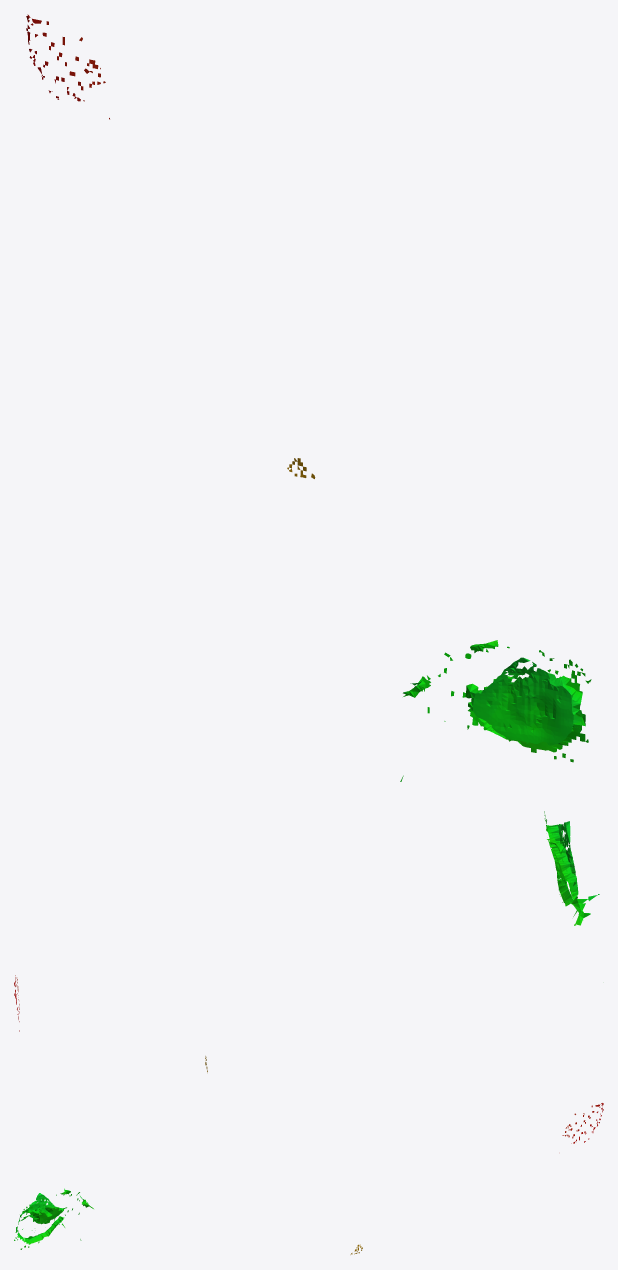
The picture shows the model from 3 angles, top to bottom: view 1: azimuth 30°, elevation 25°; view 2: azimuth 150°, elevation 25°; view 3: azimuth 270°, elevation 25°; orthographic projection. The views are drawn at different scales.
Visible parts, largest first — view 1: geometry_0; view 2: geometry_0; view 3: geometry_0.
Boxes of the visible parts, x1,y1,x2,y2 form: geometry_0: (26,14,591,781); geometry_0: (14,811,599,1072); geometry_0: (14,1103,603,1254).
Size of the model in its own units: 0.2516 by 0.4469 by 1.37.
